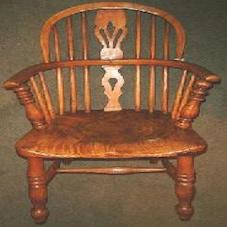chair: (8, 5, 211, 224)
